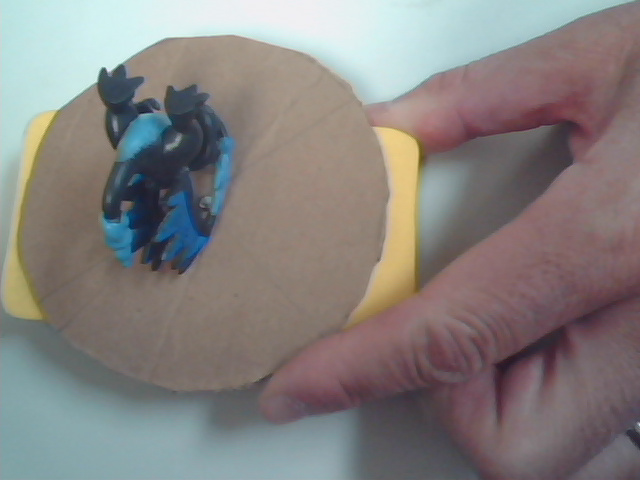charizard: (60, 73, 298, 301)
